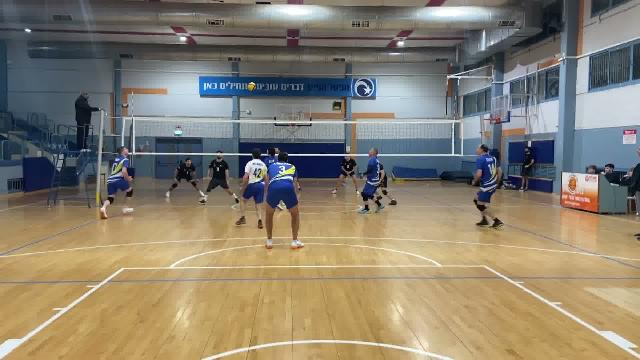ball: (245, 79, 261, 93)
